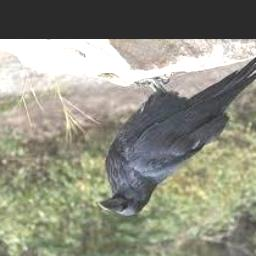Crow: (96, 56, 256, 217)
